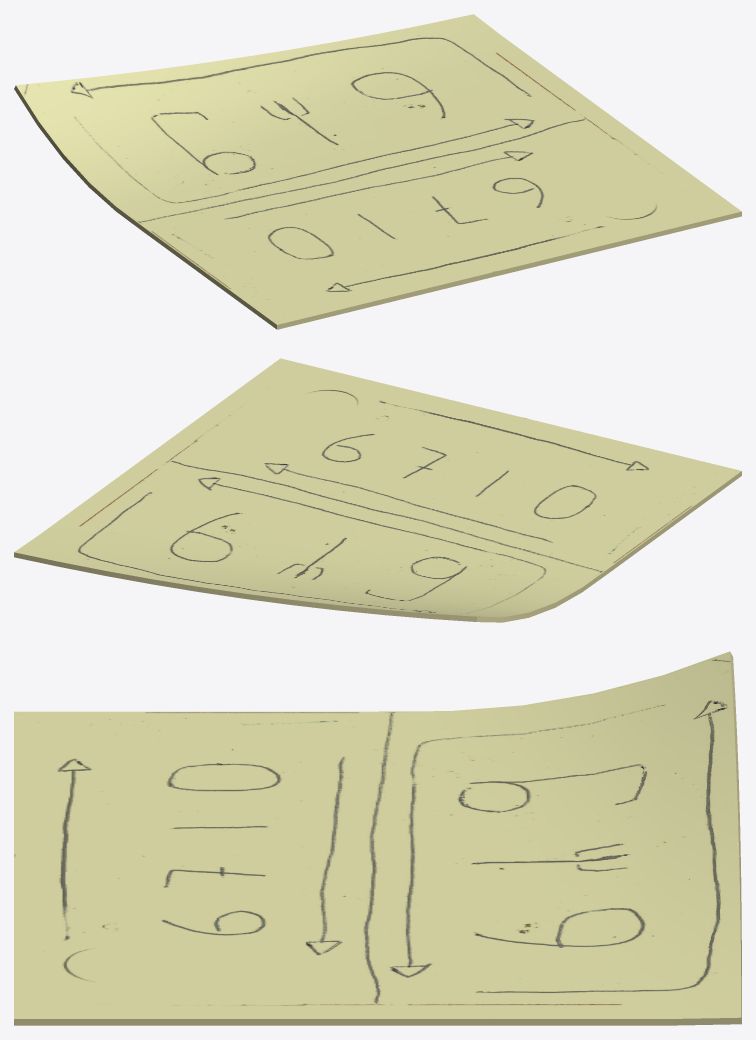
File: telefonRätsel.fbx
3 views of the same model, one above another, from view 1: azimuth 30°, elevation 25°; view 2: azimuth 150°, elevation 25°; view 3: azimuth 270°, elevation 25° (orthographic). The views are drawn at different scales.
Visible parts, largest first — view 1: Würfel; view 2: Würfel; view 3: Würfel.
Part boxes in pixels (left/top/right/bottom): Würfel: left=14, top=14, right=741, bottom=329; Würfel: left=14, top=358, right=741, bottom=622; Würfel: left=14, top=651, right=741, bottom=1025.
Bounding box in the file's own units: 20 × 2.08 × 20.01.
Materials: 2 (1 with a texture image).
